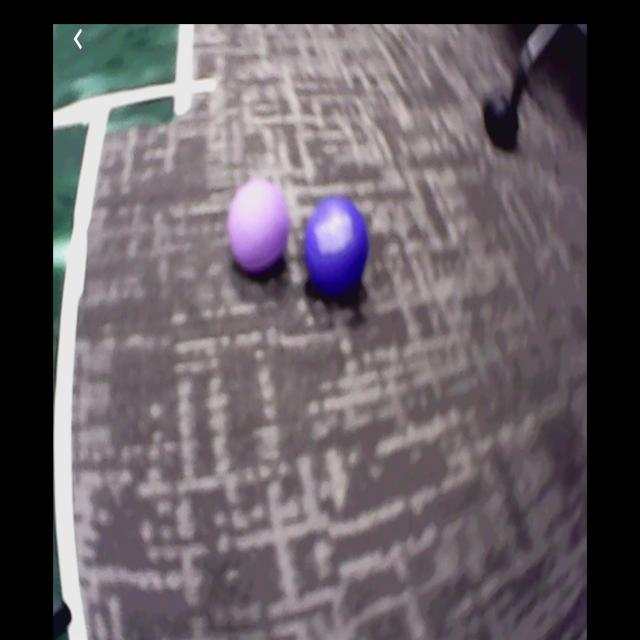ball: (305, 201, 369, 297), (230, 181, 290, 274)
